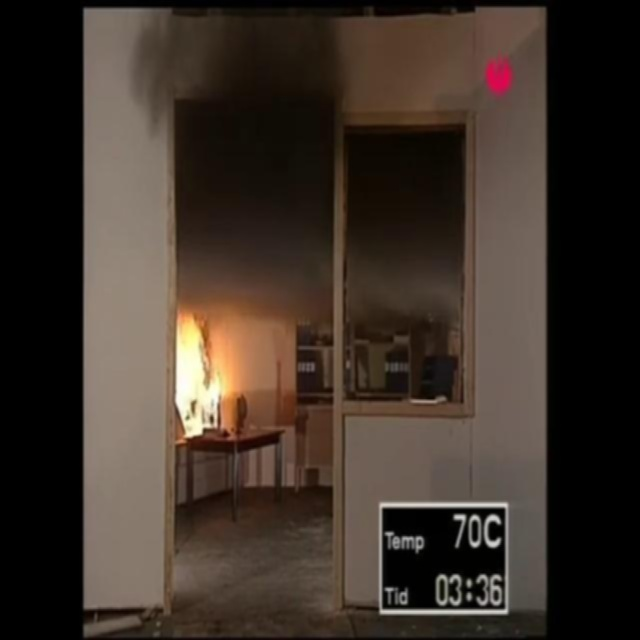fire: (170, 301, 239, 452)
